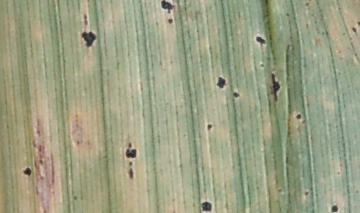tarspot: (77, 30, 102, 50), (268, 70, 282, 101), (157, 1, 181, 15), (197, 199, 216, 213), (122, 144, 139, 159), (213, 75, 228, 91), (252, 33, 269, 47), (20, 165, 35, 179), (228, 90, 244, 100), (329, 201, 340, 213), (301, 188, 312, 200), (203, 122, 216, 132), (127, 168, 137, 181), (294, 112, 305, 122), (165, 16, 176, 26), (350, 25, 358, 36), (125, 159, 137, 166)
